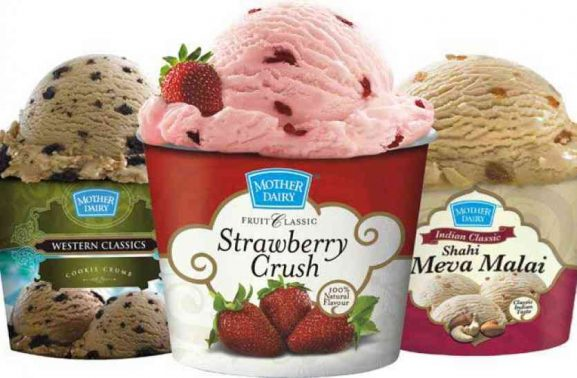Mother_Dairy: (237, 162, 320, 215), (445, 196, 503, 232), (67, 188, 124, 222)
